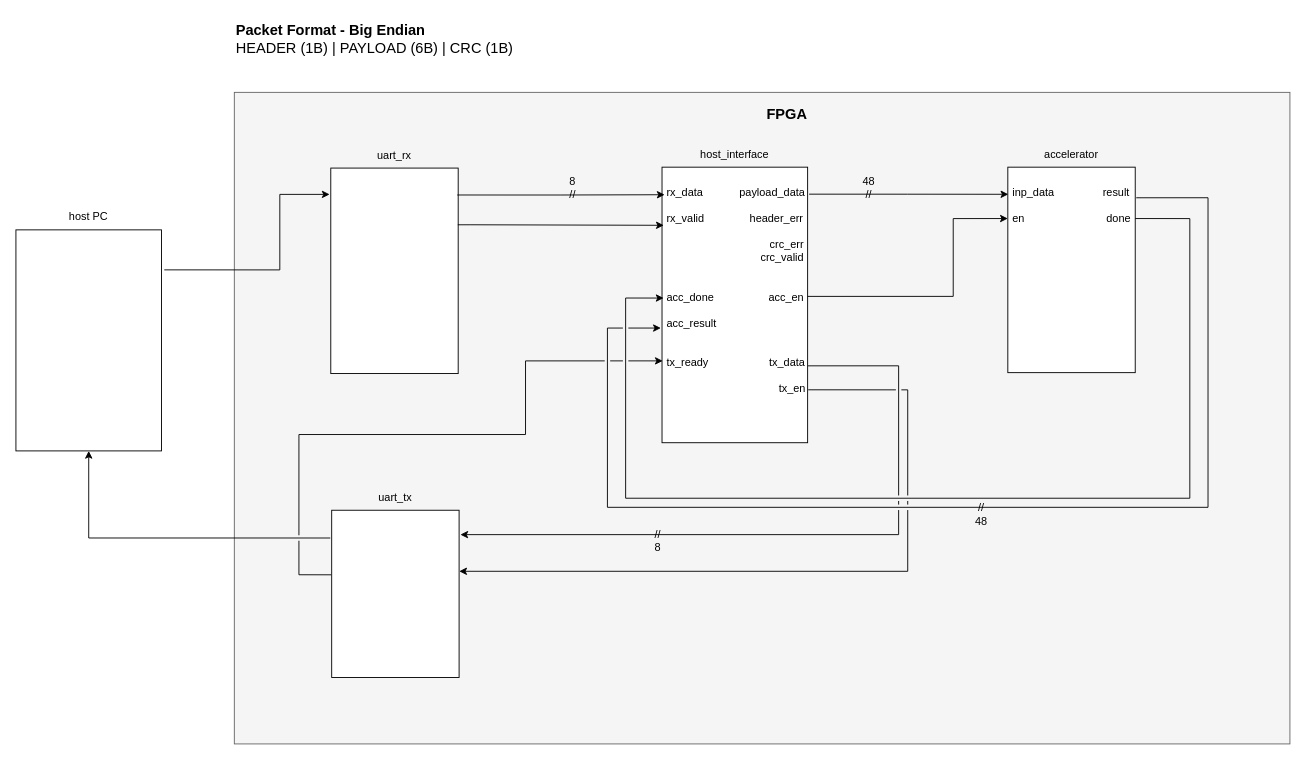
Image size: 1306x760. Some labels were removed from this diagram. Each missing label, with the centre of its shape:
"rx_bit data valid" belongs at (x=394, y=270).
"tx_bit data ready tx_en" belongs at (x=395, y=593).
